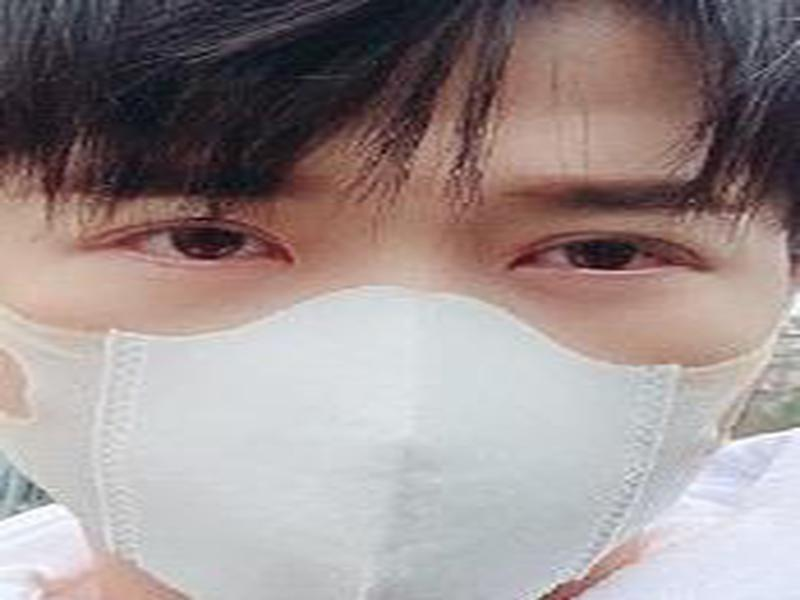with_mask: (1, 7, 793, 600)
